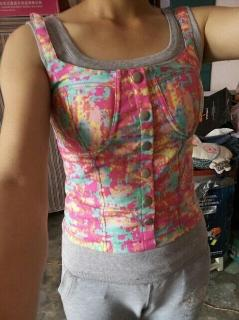shorts: (58, 217, 211, 319)
sling dress: (29, 6, 205, 253)
